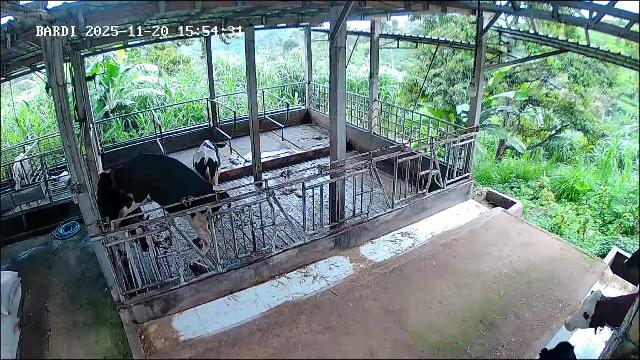mounting: (97, 154, 231, 264)
